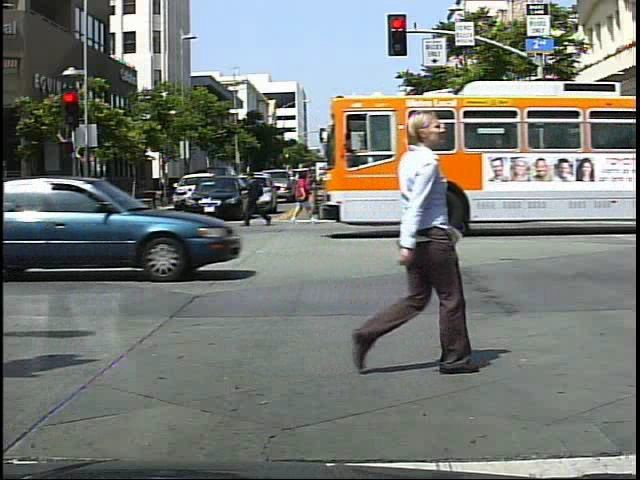person: (342, 82, 471, 382), (244, 165, 274, 233), (332, 164, 363, 228), (289, 166, 315, 230), (550, 160, 573, 211)
